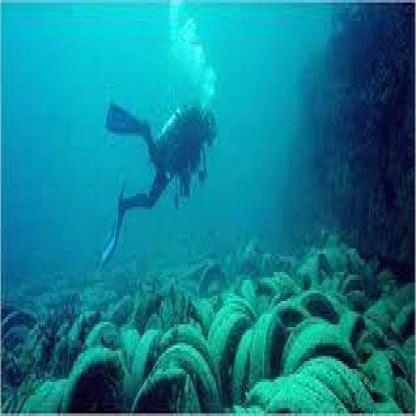tire: (13, 264, 416, 416)
